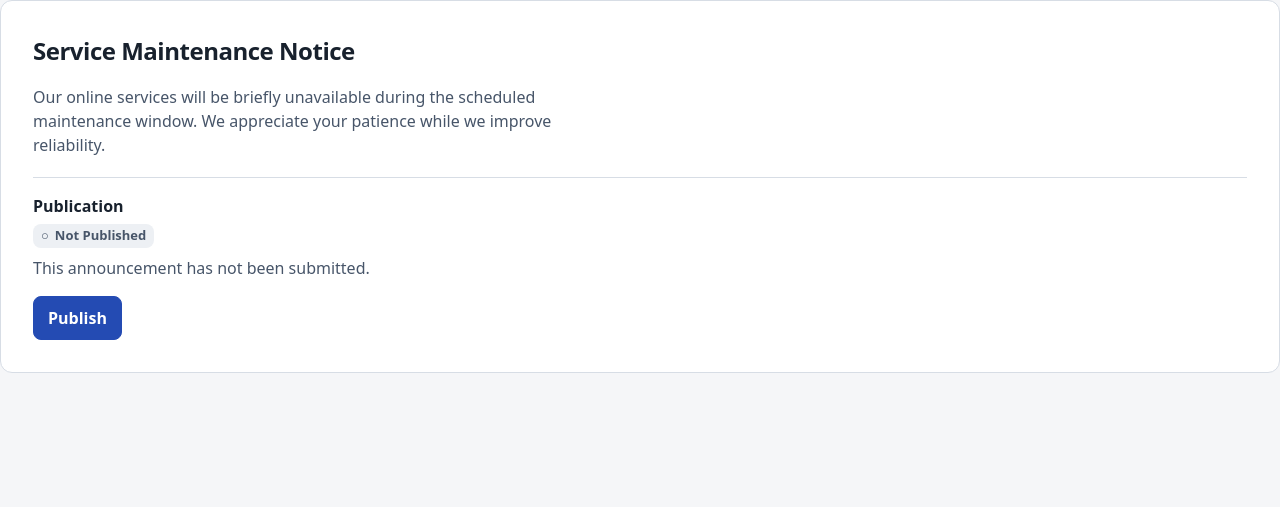
it: preserves a confirmed processing snapshot when the first status read fails
The width and height of the screenshot is (1280, 507).
Later steps or results of the test are not shown.
Click the button "Publish": (77, 318) [33,296,122,340]
Wait 120 ms
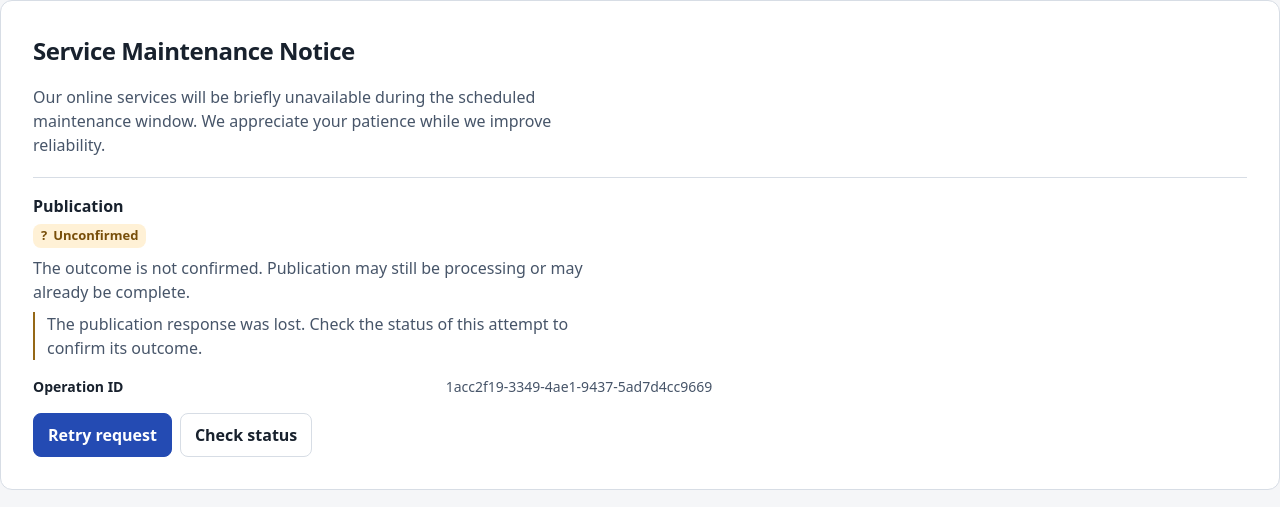
Click the button "Retry request": (102, 434) [33,412,172,456]
Wait 120 ms
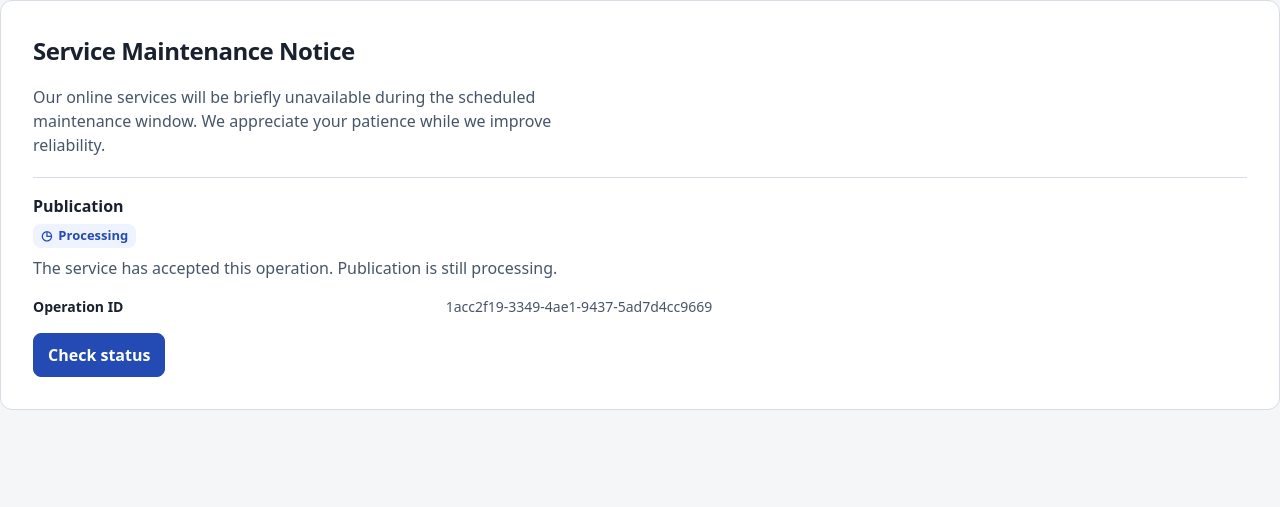
Click the button "Check status": (99, 354) [33,332,165,376]
Wait 100 ms
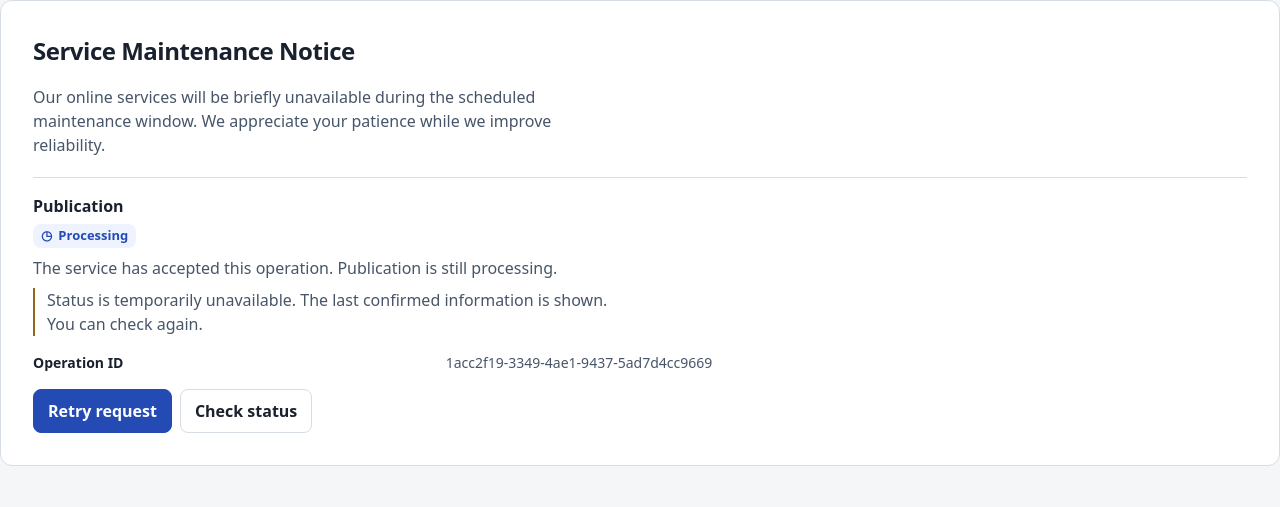
Now the text "Processing" is shown, box [58,226,128,244]
